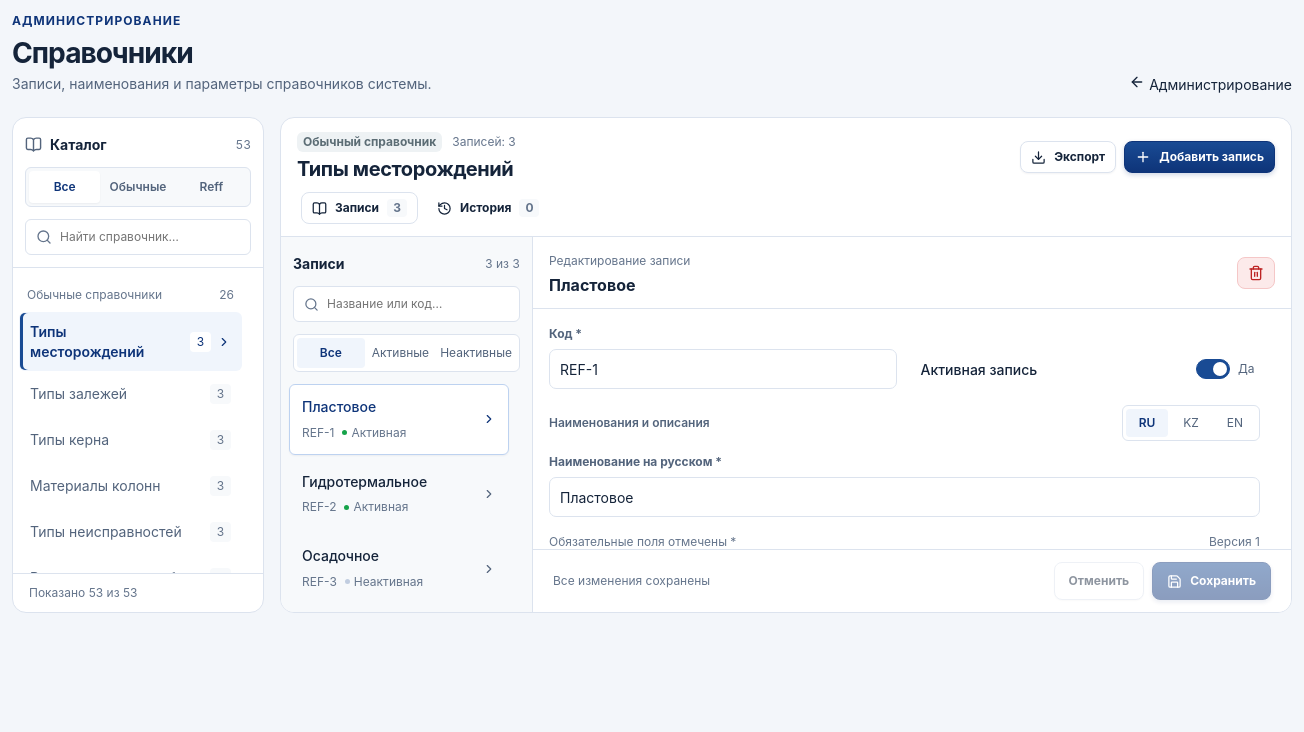
ReferenceDataPage workbench › saves the active switch and clears the dirty state when a change is reverted
Click the switch labelled "Активная запись". click: {"x": 979, "y": 369}
box: [920,360,1260,380]
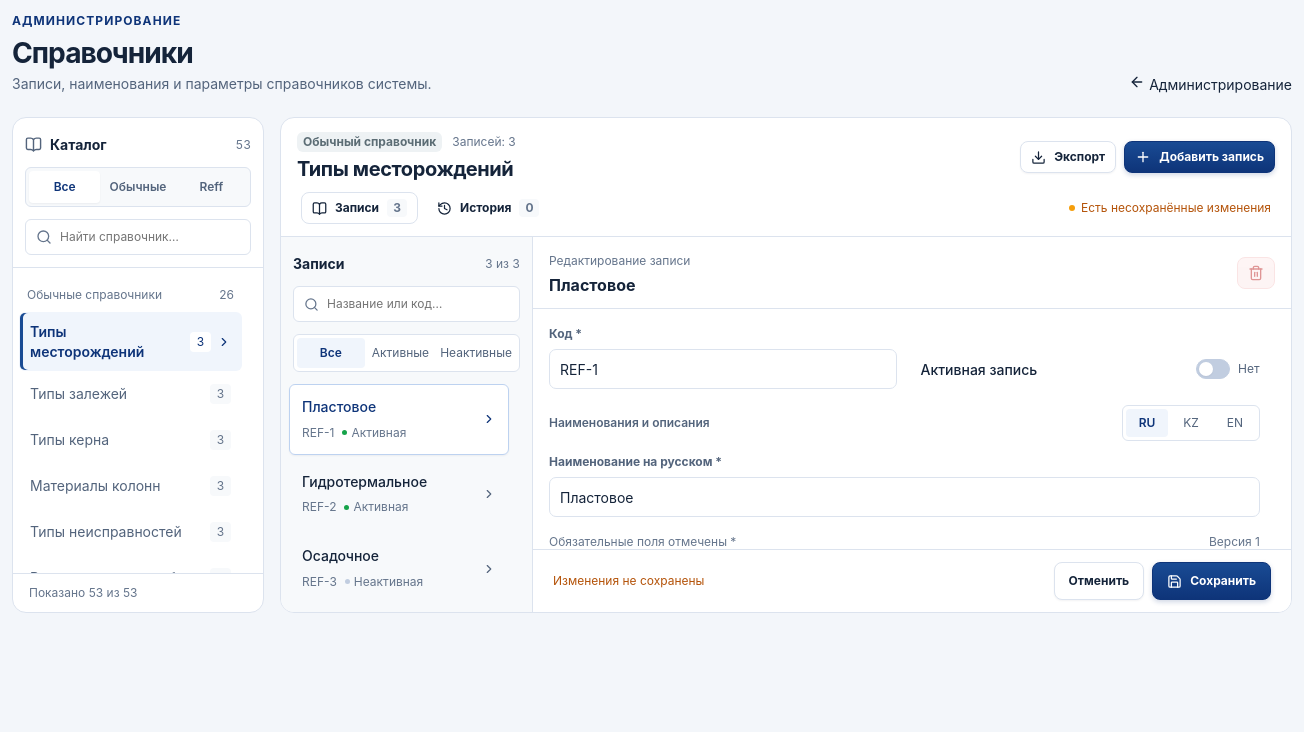
expect the text "Есть несохранённые изменения" is shown: met, box [1069,199,1271,217]
Click the switch labelled "Активная запись". click: {"x": 979, "y": 369}
box: [920,360,1260,380]
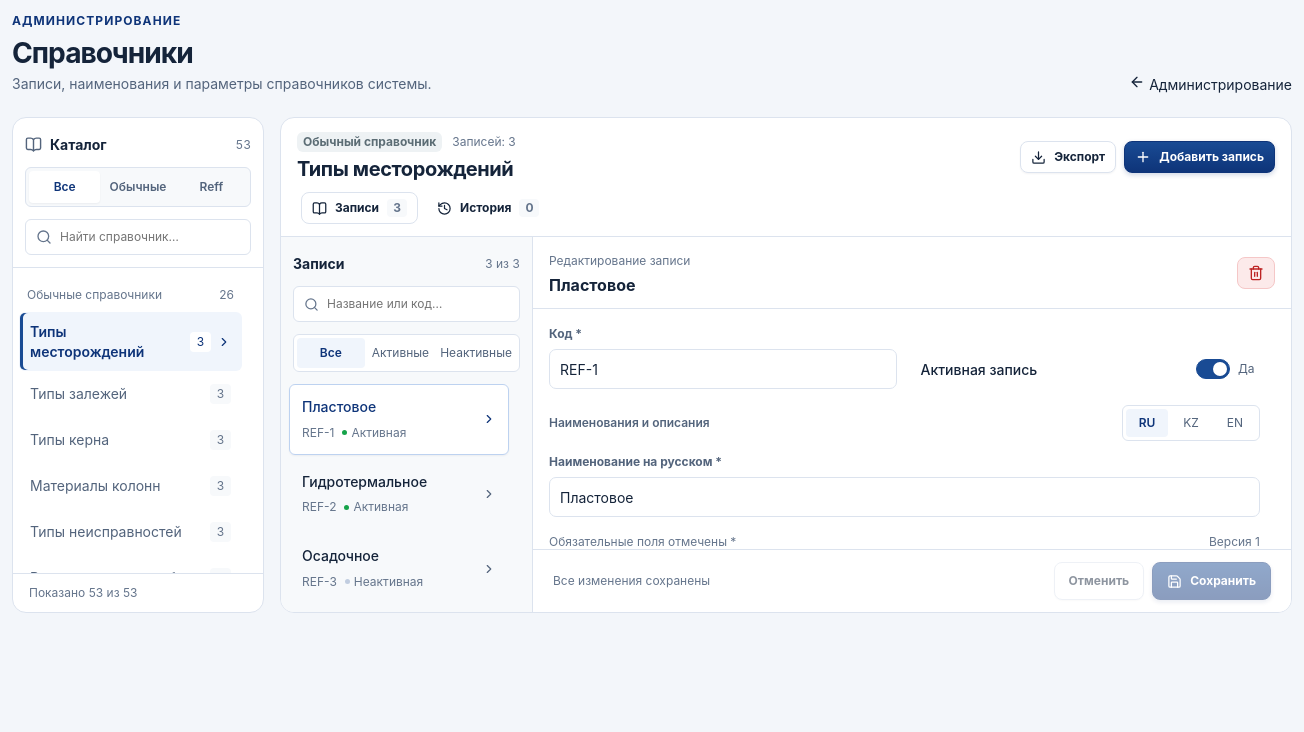
expect the text "Есть несохранённые изменения" is gone: met
expect the button "Сохранить" is disabled: met, box [1152,562,1271,600]
Click the switch labelled "Активная запись". click: {"x": 979, "y": 369}
box: [920,360,1260,380]
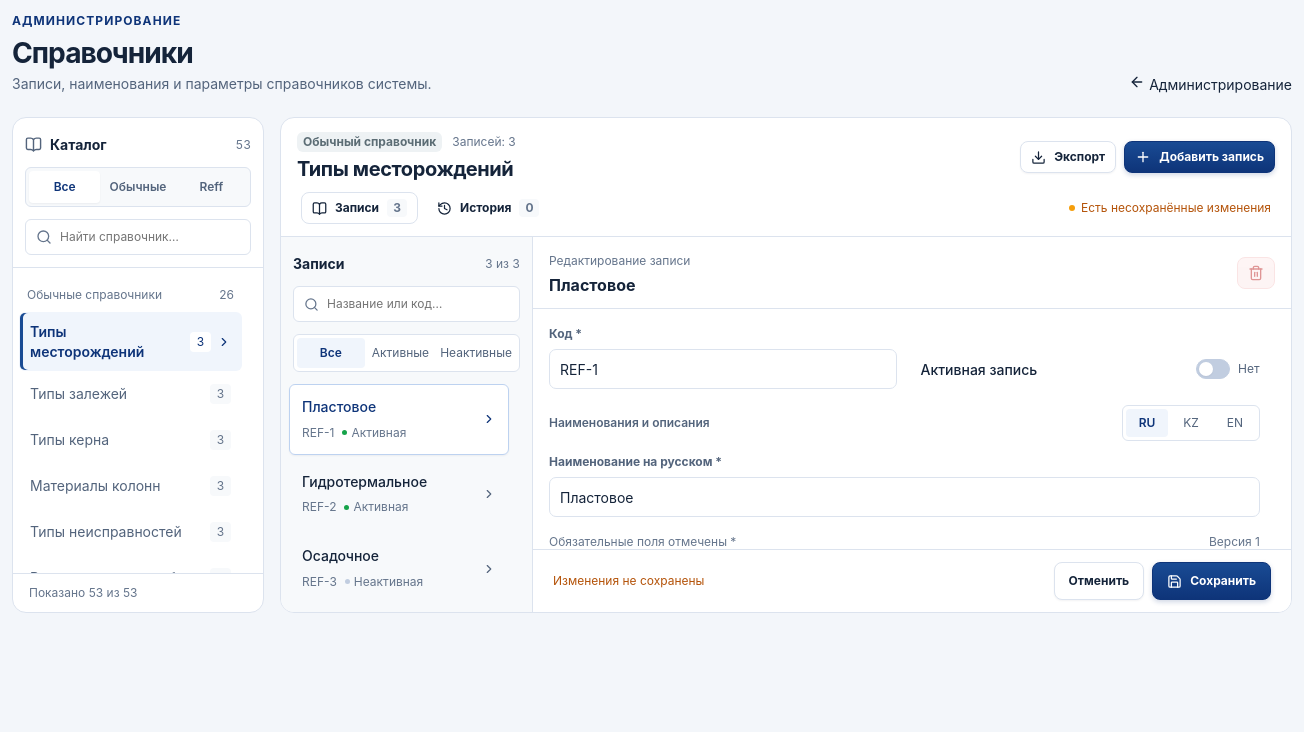
Click the button "Сохранить". click: {"x": 1212, "y": 581}
box: [1152,562,1271,600]
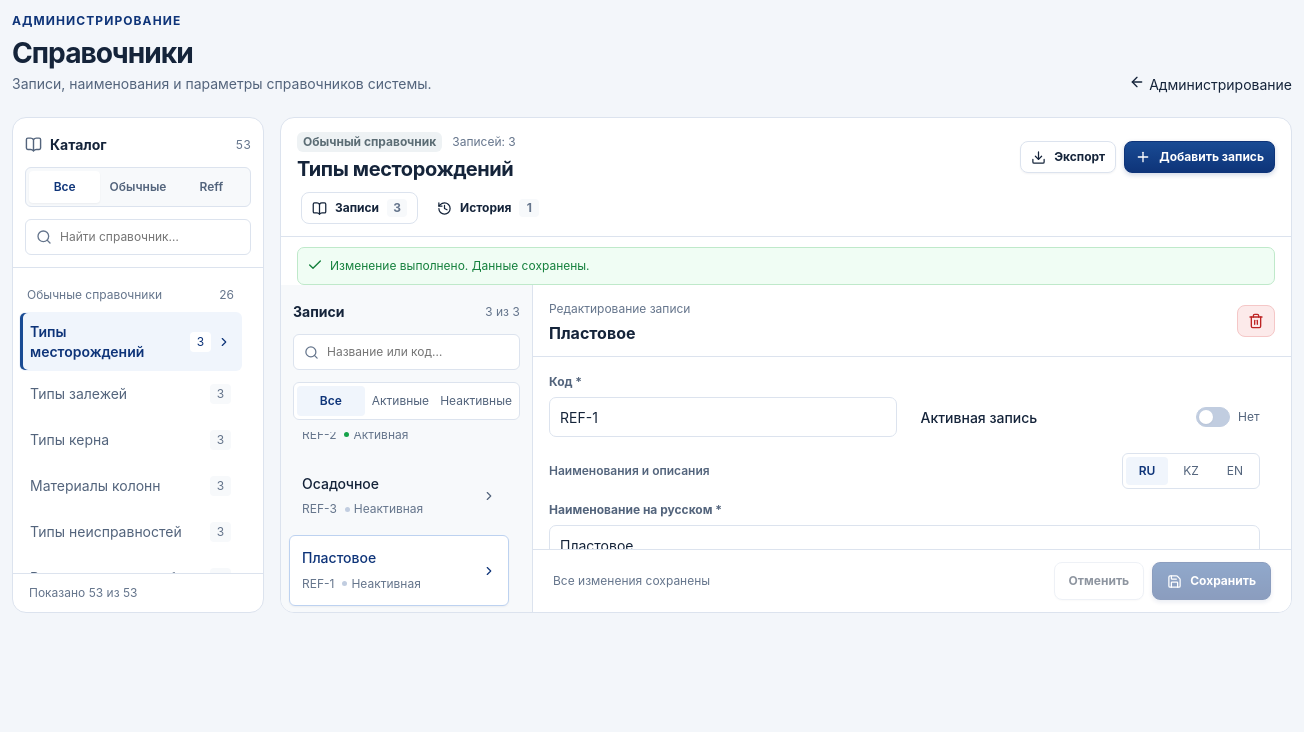
expect the text "Изменение выполнено. Данные сохранены." is shown: met, box [297,247,1275,285]
